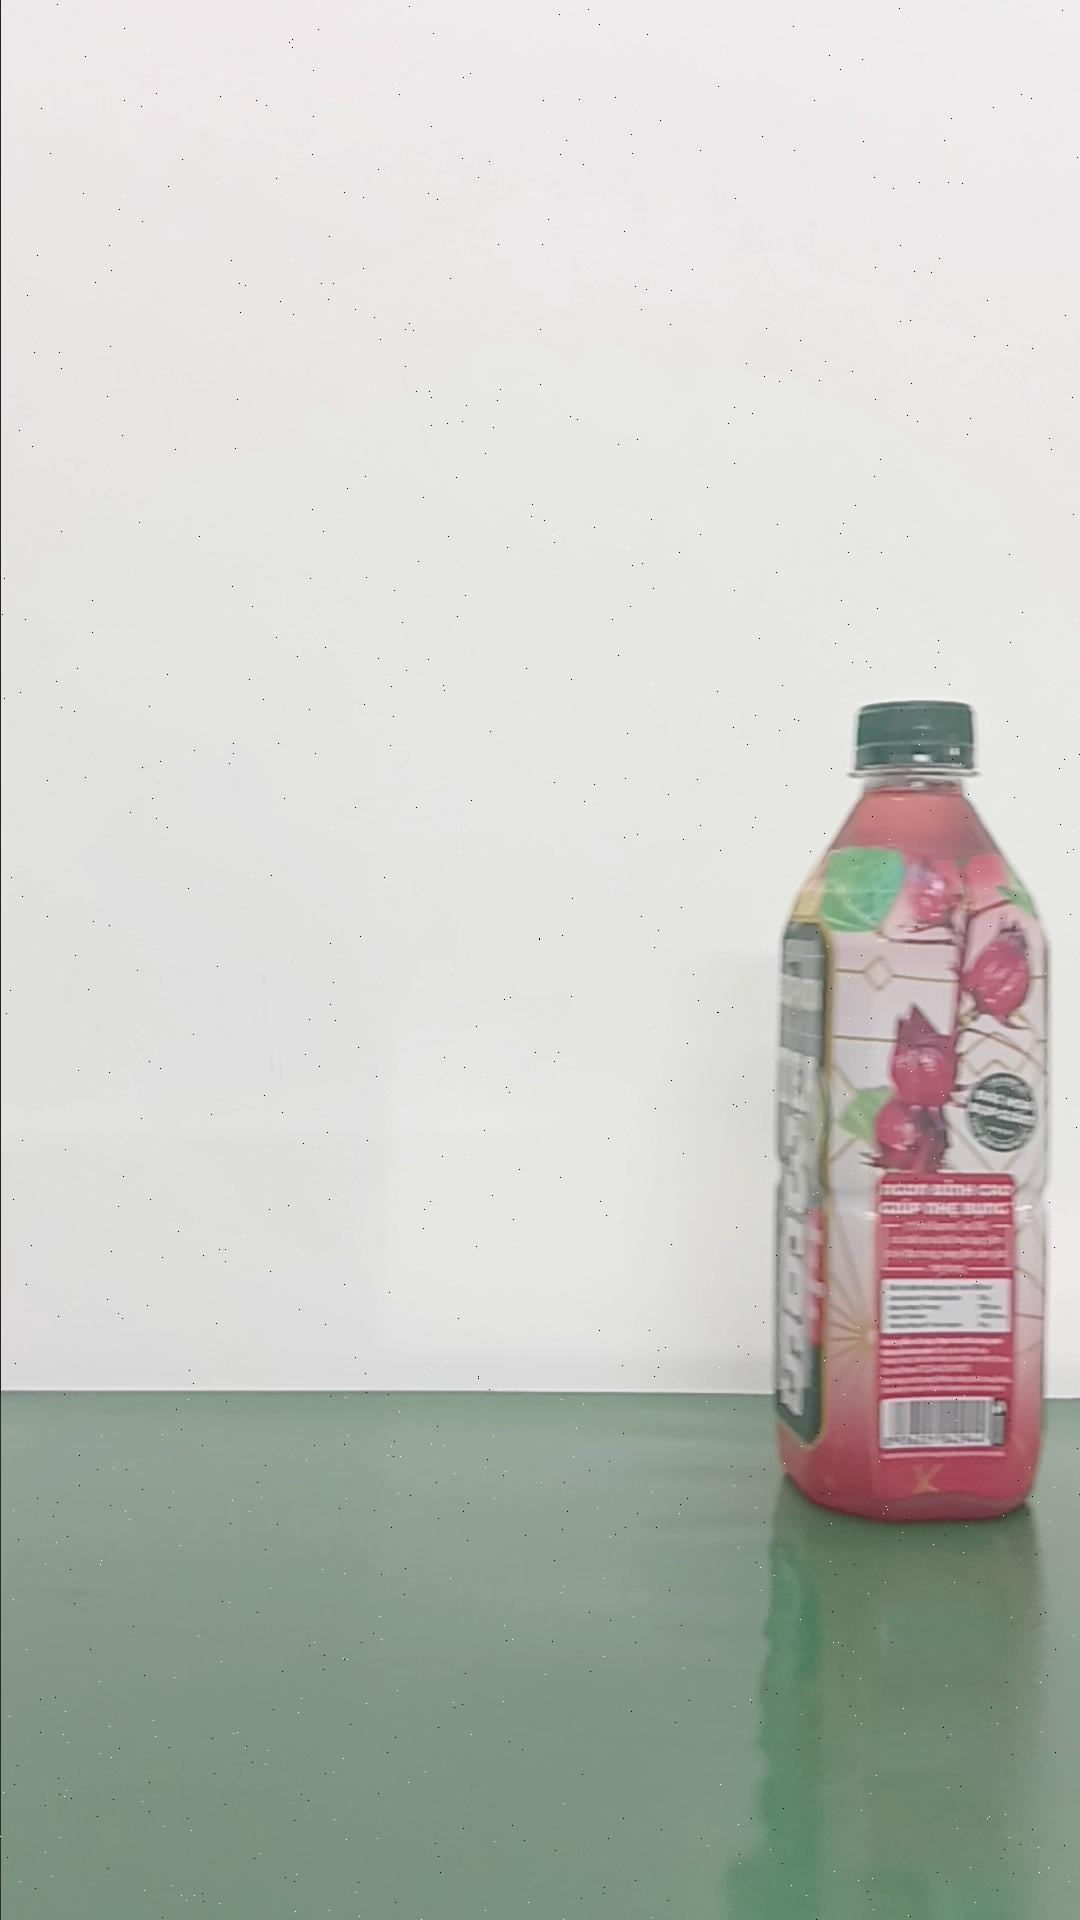khong loi: (767, 696, 1051, 1523)
